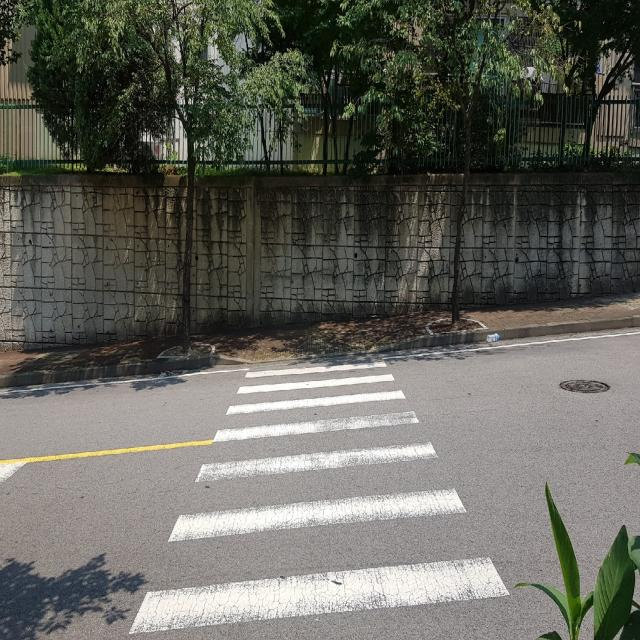횡단보도: (124, 354, 514, 640)
